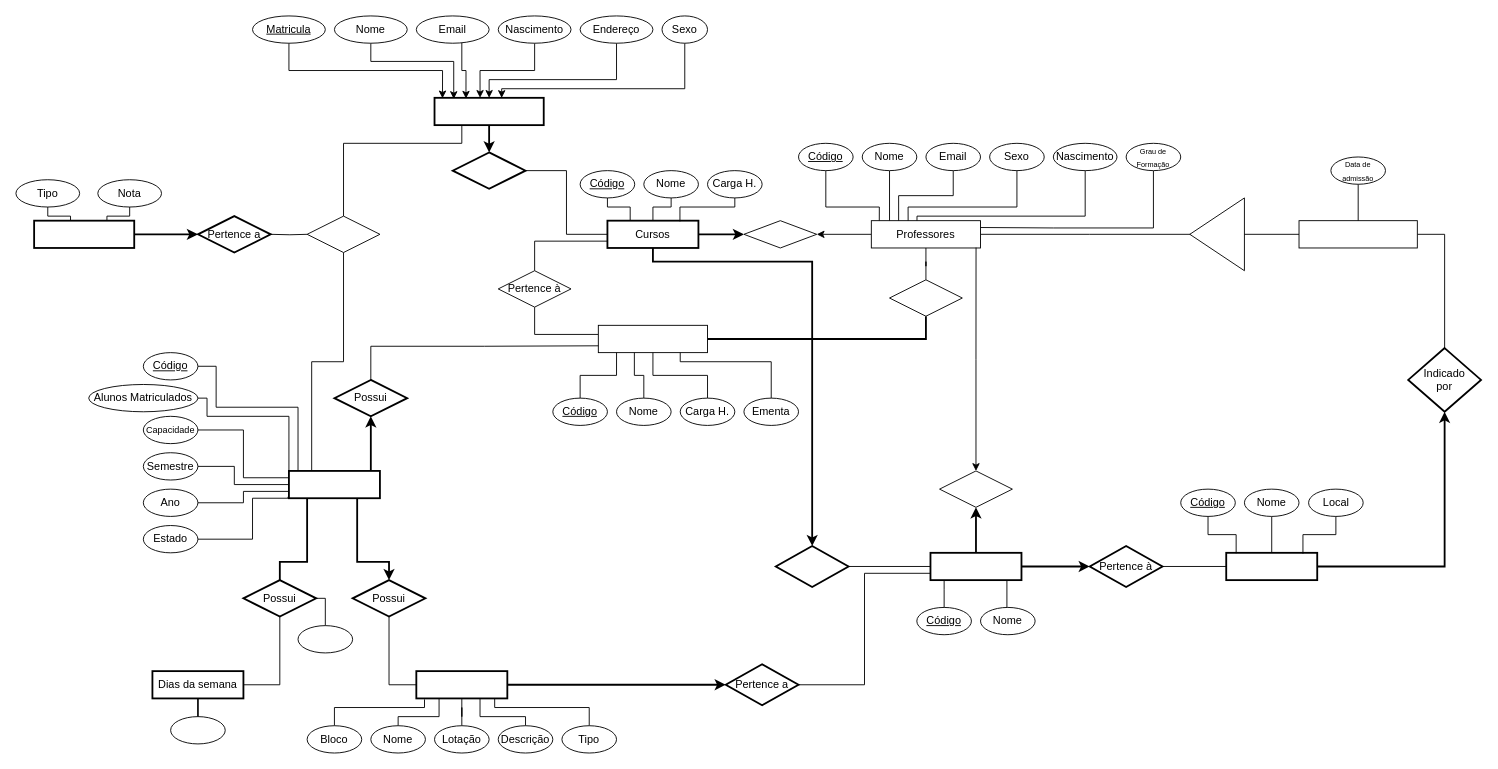
Image size: 1498x769. Some labels were removed from this diagram. The shapes that lost their labels are listed below. From the top down, each one's centre as x and y in pixels, then its label:
(488,111): Alunos
(488,170): Cursa
(84,233): Avaliação
(343,234): Realiza
(780,234): Coordena
(1216,234): É um
(1357,234): Reitores
(925,297): Leciona
(652,338): Disciplinas
(334,484): Turmas
(975,488): Dirige
(811,566): Faz parte de
(975,566): Centros
(1271,566): Campus
(325,639): Horario
(461,684): Locais
(197,730): Dia
